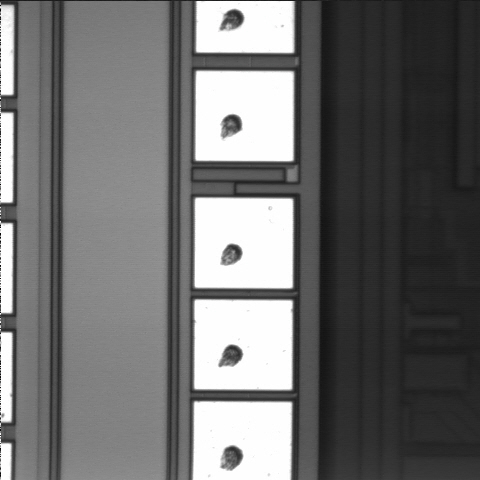pad: (195, 71, 294, 161), (195, 198, 293, 288), (194, 300, 292, 390)
